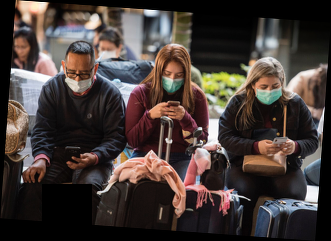with_mask: (64, 67, 95, 95), (255, 81, 283, 106), (161, 69, 185, 96), (97, 45, 118, 60)
without_mask: (14, 42, 31, 62)
